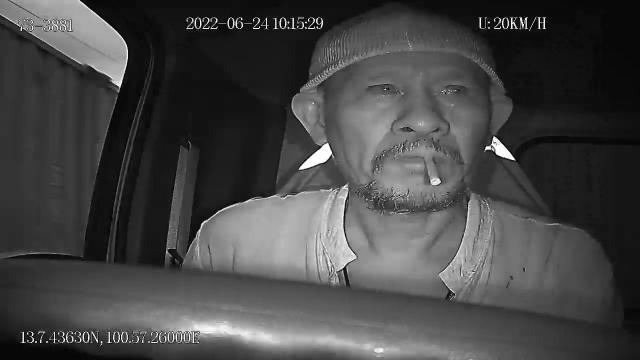SafeDriving: (360, 72, 409, 103), (428, 74, 477, 103)
Smoking: (422, 150, 442, 187)
